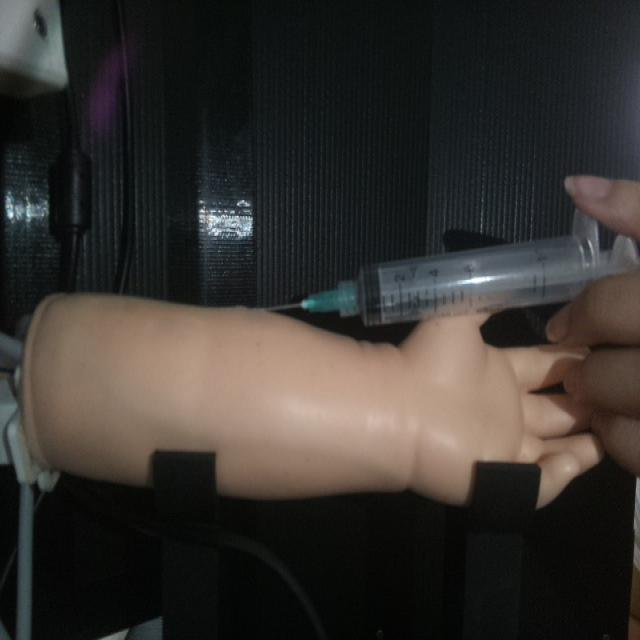Outside: (254, 196, 640, 353)
